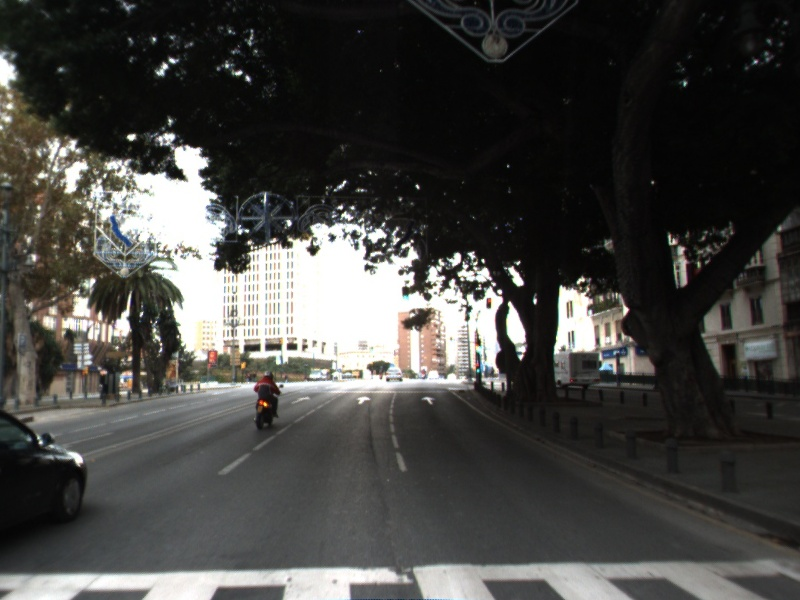STRAIGHT: (289, 394, 313, 406), (419, 394, 439, 407), (354, 394, 373, 406)
